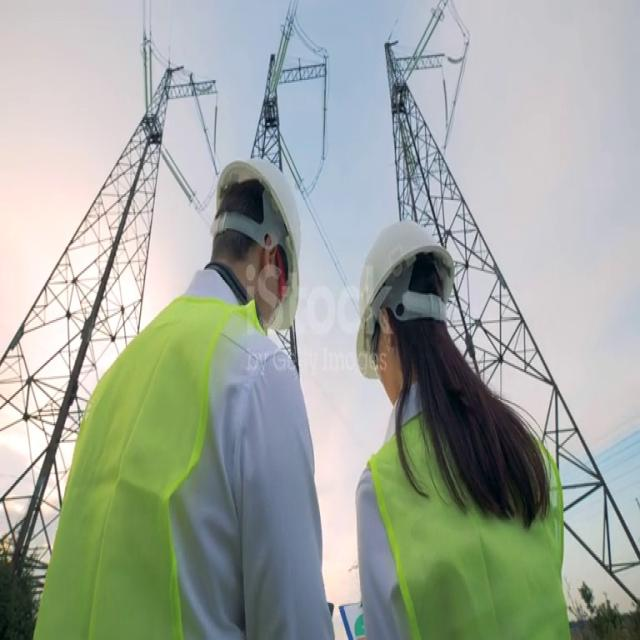capacete: (348, 209, 468, 384), (210, 151, 313, 335)
